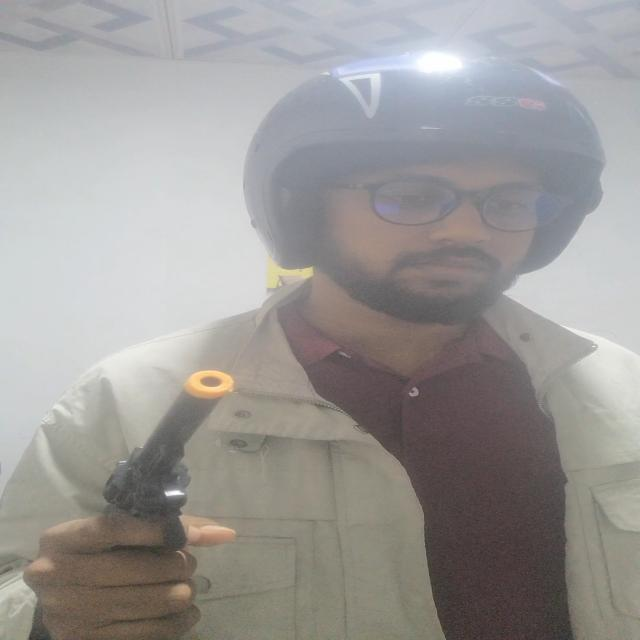Gun_Holder: (14, 358, 302, 609)
Helmet_Wearer: (224, 60, 636, 324)
Jacket_Wearer: (0, 278, 640, 640)
Person: (0, 60, 640, 640)
